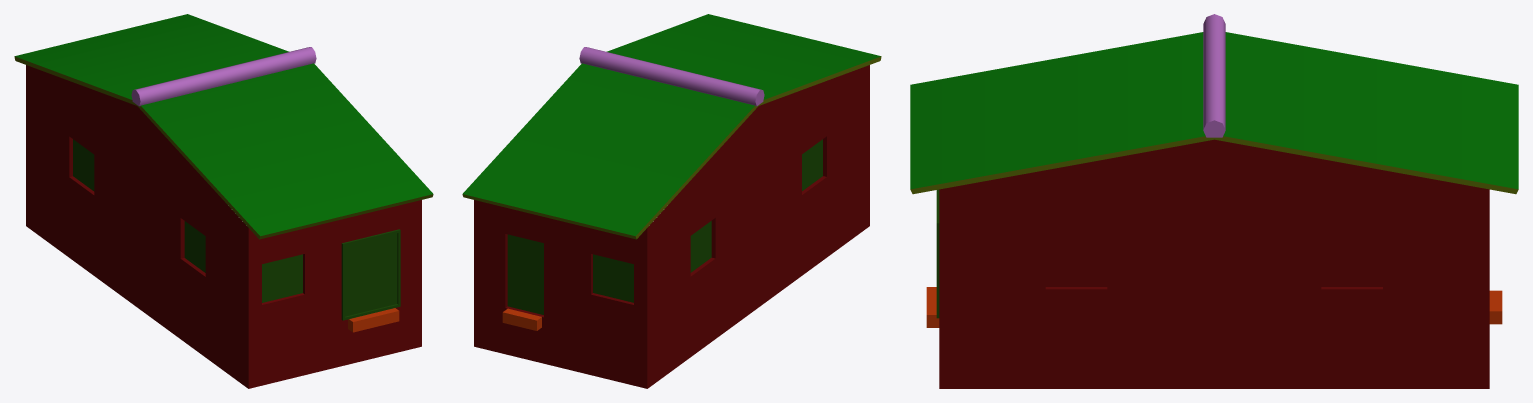
The model's file is old_build_03.FBX.
3 views of the same model, side by side, from view 1: azimuth 30°, elevation 25°; view 2: azimuth 150°, elevation 25°; view 3: azimuth 270°, elevation 25° (orthographic). The views are drawn at different scales.
Visible parts, largest first — view 1: old_build_01; view 2: old_build_01; view 3: old_build_01.
Boxes of the visible parts, x1=… form: old_build_01: x1=14, y1=14, x2=433, y2=388; old_build_01: x1=462, y1=14, x2=881, y2=388; old_build_01: x1=910, y1=14, x2=1518, y2=388.
Size of the model in its own units: 4.57 by 11.06 by 5.41.
